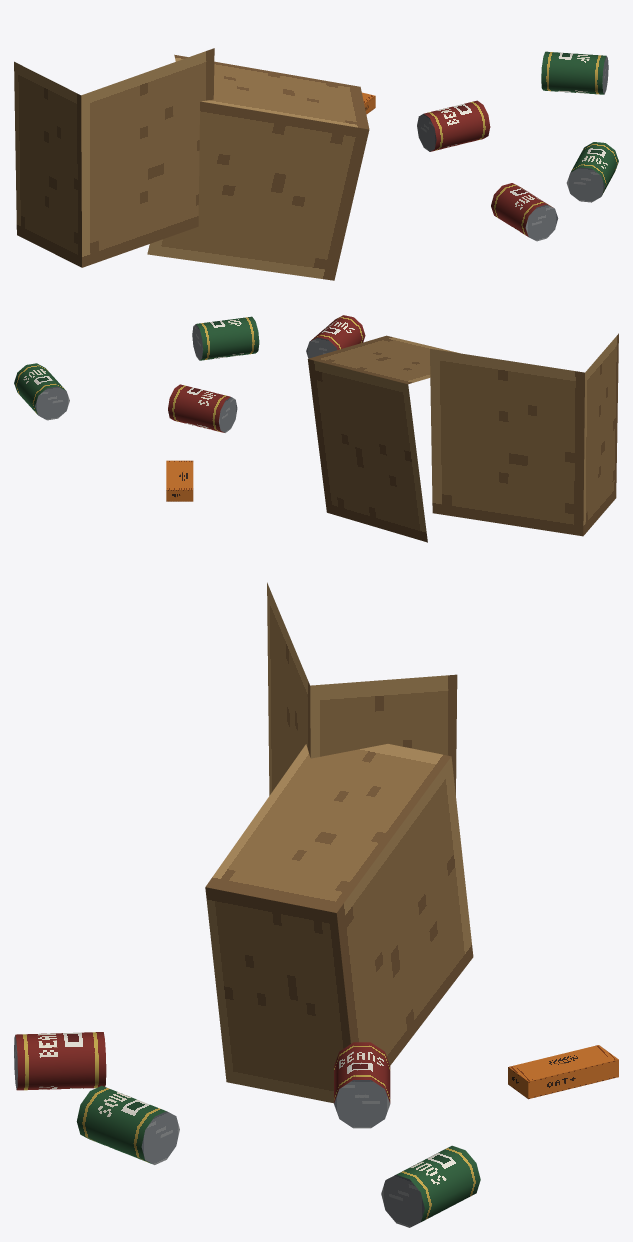
The model's file is ABN_GroceryBags_Spilled.glb.
The picture shows the model from 3 angles, top to bottom: view 1: azimuth 30°, elevation 25°; view 2: azimuth 150°, elevation 25°; view 3: azimuth 270°, elevation 25°; orthographic projection. The views are drawn at different scales.
Parts seen in each view (by area): view 1: ABN_GroceryBags_Spilled_Mesh; view 2: ABN_GroceryBags_Spilled_Mesh; view 3: ABN_GroceryBags_Spilled_Mesh.
Boxes of the visible parts, x1,y1,x2,y2 form: ABN_GroceryBags_Spilled_Mesh: [14, 48, 618, 280]; ABN_GroceryBags_Spilled_Mesh: [14, 315, 618, 542]; ABN_GroceryBags_Spilled_Mesh: [14, 582, 618, 1227].
Size of what is drawn, in the model's own units: 1.23 by 0.4567 by 0.751.
1 material, 1 textured.
